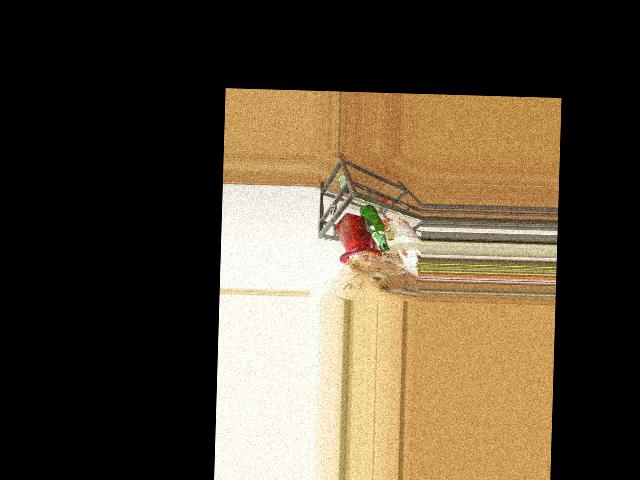beer: (358, 204, 390, 252)
